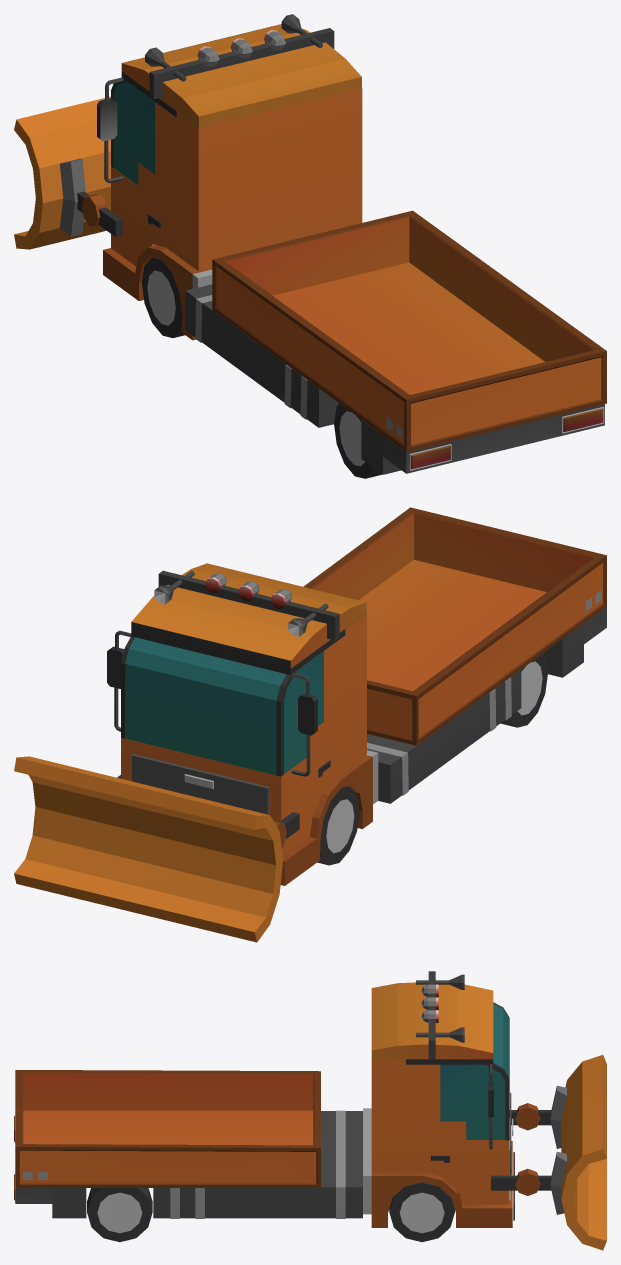
Rendered from Winterdienst.glb.
The picture shows the model from 3 angles, top to bottom: view 1: azimuth 30°, elevation 25°; view 2: azimuth 150°, elevation 25°; view 3: azimuth 270°, elevation 25°; orthographic projection. The views are drawn at different scales.
Parts seen in each view (by area): view 1: bulldozer; view 2: bulldozer; view 3: bulldozer.
Boxes of the visible parts, x1=… form: bulldozer: x1=14, y1=14, x2=606, y2=478; bulldozer: x1=14, y1=507, x2=606, y2=942; bulldozer: x1=14, y1=971, x2=606, y2=1250.
Size of the model in its own units: 1.06 by 1.11 by 2.81.
1 material, 1 textured.
